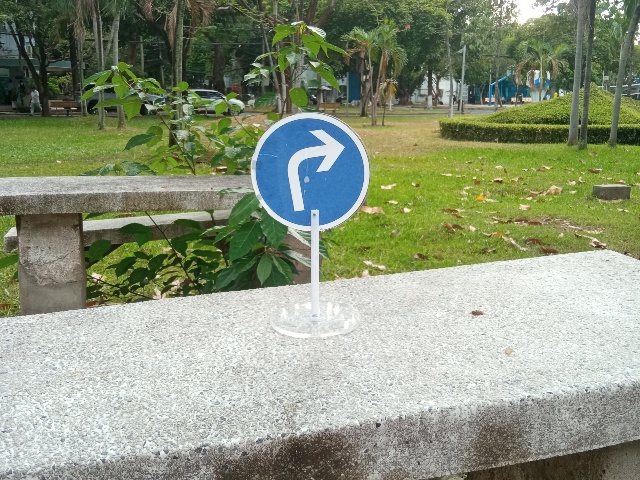Right_Sign: (251, 111, 370, 231)
